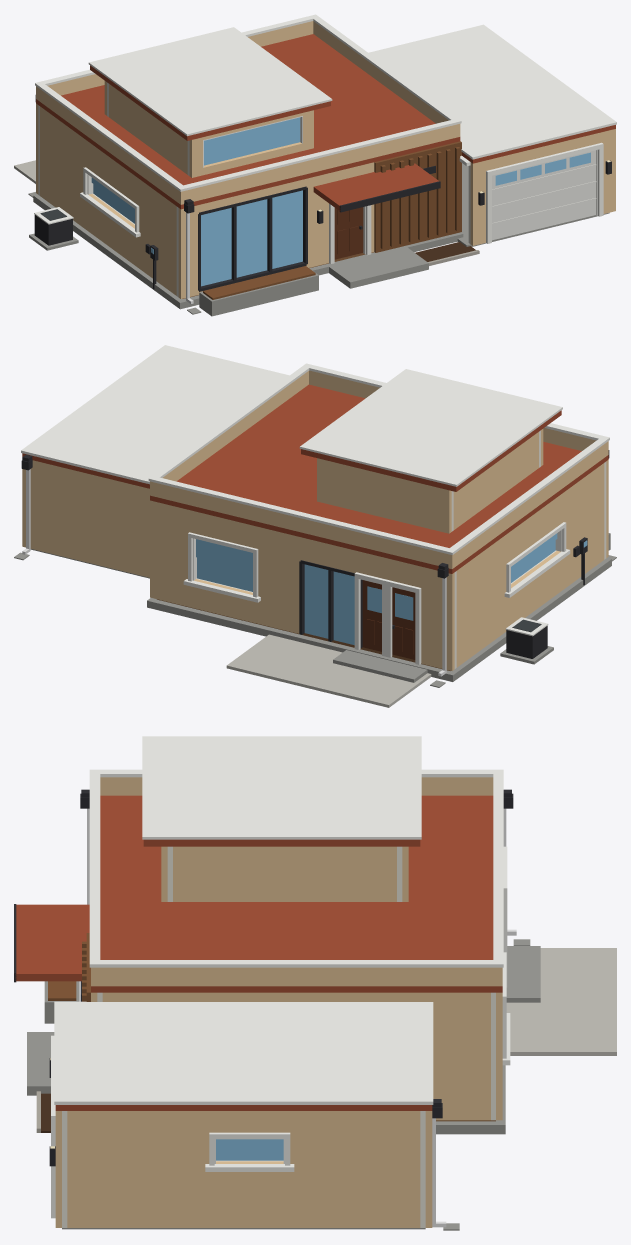
The model's file is Modern.glb.
The picture shows the model from 3 angles, top to bottom: view 1: azimuth 30°, elevation 25°; view 2: azimuth 150°, elevation 25°; view 3: azimuth 270°, elevation 25°; orthographic projection. The views are drawn at different scales.
Parts seen in each view (by area): view 1: Modern_Trim, Modern_WallsOut, Modern_Roof, Modern_Glass, Modern_Foundation, Modern_Accent, Modern_GarageDoor1, Modern_Metal, Modern_Door3, Modern_GarageGlass1, Modern_WallsIn, Modern_Mulch (+1 smaller); view 2: Modern_WallsOut, Modern_Trim, Modern_Roof, Modern_Foundation, Modern_Patio, Modern_Glass, Modern_Metal, Modern_Door1, Modern_Sash1, Modern_Door2, Modern_Gutter, Modern_WallsIn (+1 smaller); view 3: Modern_Trim, Modern_WallsOut, Modern_Roof, Modern_Patio, Modern_Foundation, Modern_WallsIn, Modern_Accent, Modern_Metal, Modern_Gutter, Modern_Sash3, Modern_Glass.
Part boxes in pixels (x1=…): Modern_Trim: x1=34, y1=14, x2=616, y2=264; Modern_WallsOut: x1=36, y1=21, x2=615, y2=298; Modern_Roof: x1=36, y1=34, x2=615, y2=210; Modern_Glass: x1=91, y1=117, x2=302, y2=286; Modern_Foundation: x1=28, y1=163, x2=609, y2=316; Modern_Accent: x1=203, y1=141, x2=461, y2=299; Modern_GarageDoor1: x1=492, y1=150, x2=596, y2=240; Modern_Metal: x1=34, y1=95, x2=611, y2=291; Modern_Door3: x1=334, y1=207, x2=363, y2=259; Modern_GarageGlass1: x1=495, y1=152, x2=590, y2=185; Modern_WallsIn: x1=38, y1=82, x2=470, y2=297; Modern_Mulch: x1=415, y1=242, x2=475, y2=261; Modern_WallsOut: x1=22, y1=370, x2=608, y2=670; Modern_Trim: x1=21, y1=345, x2=609, y2=664; Modern_Roof: x1=22, y1=384, x2=608, y2=573; Modern_Foundation: x1=14, y1=533, x2=616, y2=687; Modern_Patio: x1=226, y1=634, x2=431, y2=707; Modern_Glass: x1=196, y1=533, x2=587, y2=645; Modern_Metal: x1=21, y1=450, x2=609, y2=658; Modern_Door1: x1=392, y1=587, x2=415, y2=659; Modern_Sash1: x1=197, y1=557, x2=252, y2=591; Modern_Door2: x1=362, y1=580, x2=381, y2=651; Modern_Gutter: x1=22, y1=469, x2=446, y2=676; Modern_WallsIn: x1=196, y1=430, x2=606, y2=668; Modern_Trim: x1=51, y1=736, x2=510, y2=1218; Modern_WallsOut: x1=55, y1=777, x2=502, y2=1227; Modern_Roof: x1=15, y1=795, x2=502, y2=1110; Modern_Patio: x1=506, y1=948, x2=616, y2=1055; Modern_Foundation: x1=27, y1=939, x2=540, y2=1230; Modern_WallsIn: x1=62, y1=846, x2=495, y2=1227; Modern_Accent: x1=48, y1=933, x2=90, y2=1001; Modern_Metal: x1=14, y1=789, x2=513, y2=1166; Modern_Gutter: x1=87, y1=808, x2=516, y2=1227; Modern_Sash3: x1=216, y1=1148, x2=283, y2=1160; Modern_Glass: x1=216, y1=1139, x2=283, y2=1148.
Size of the model in its own units: 65.55 by 20.65 by 51.4.
